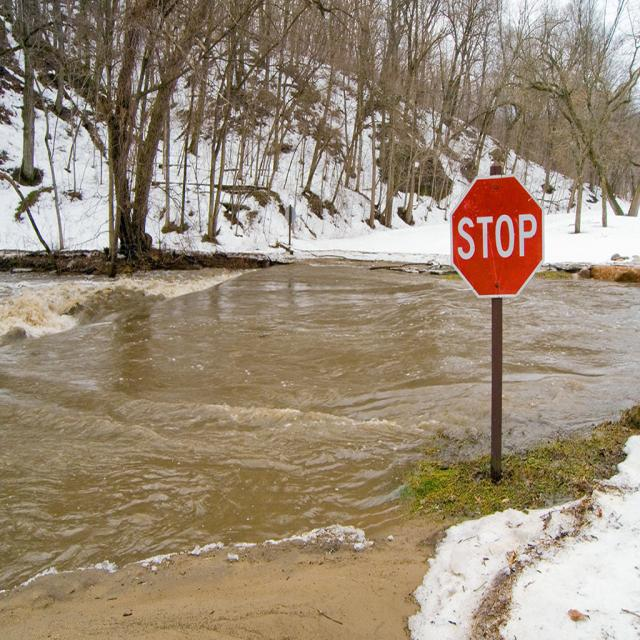Stop-sign: (449, 172, 547, 299)
